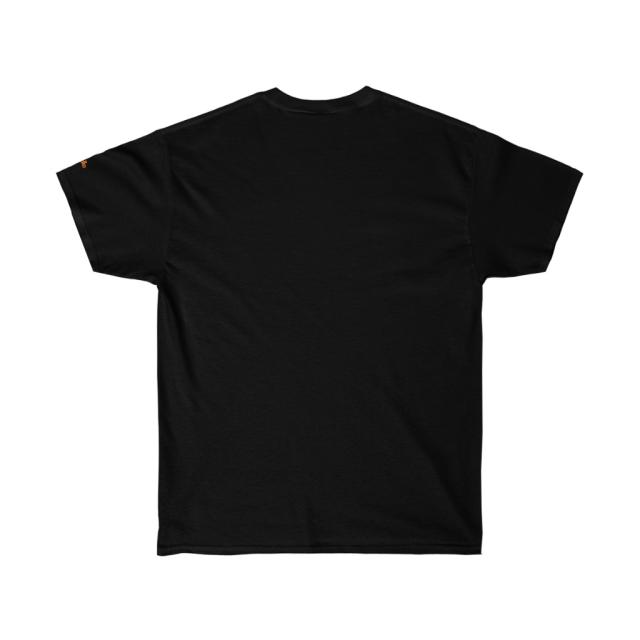shirt: (56, 85, 585, 554)
